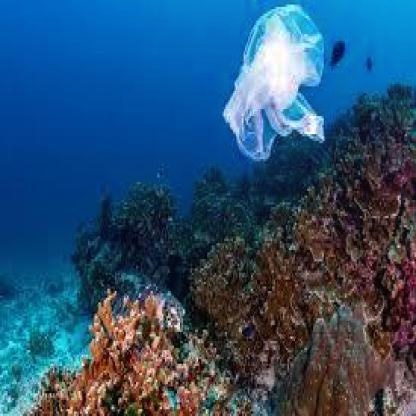pbag: (222, 2, 326, 159)
